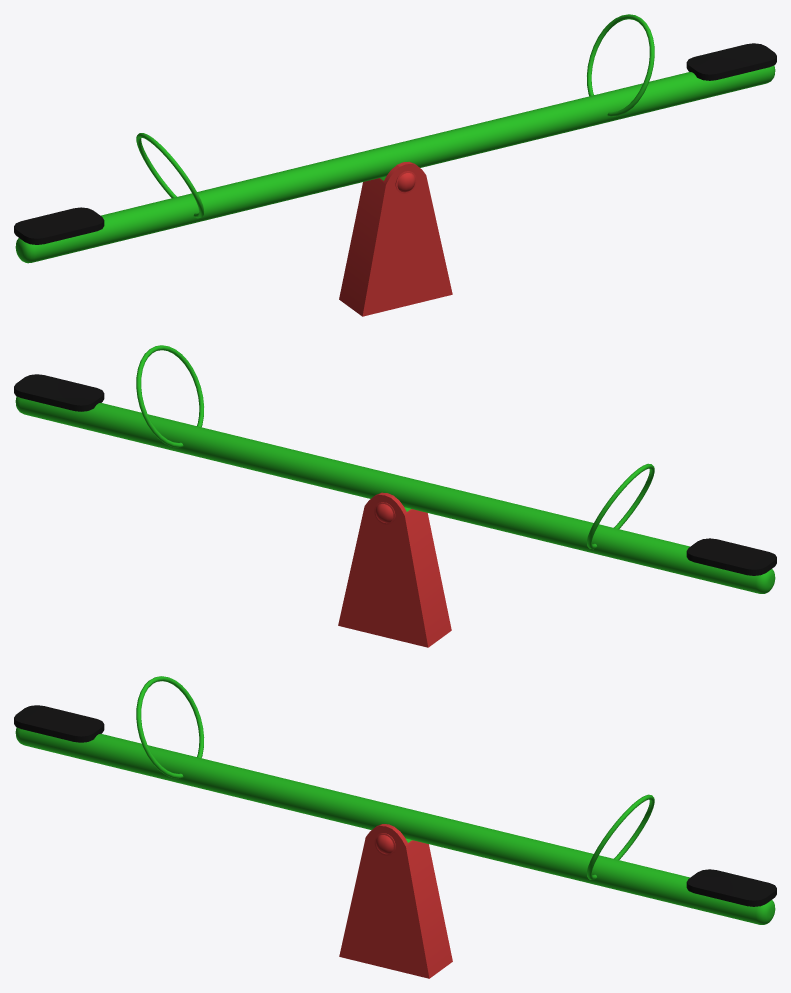
File: seesaw.glb
3 views of the same model, one above another, from view 1: azimuth 30°, elevation 25°; view 2: azimuth 150°, elevation 25°; view 3: azimuth 330°, elevation 25° (orthographic).
Visible parts, largest first — view 1: up, bottom; view 2: up, bottom; view 3: up, bottom.
Boxes of the visible parts, left/top/right/bottom form: up: left=14, top=14, right=776, bottom=263; bottom: left=339, top=161, right=452, bottom=316; up: left=14, top=345, right=776, bottom=593; bottom: left=338, top=492, right=451, bottom=647; up: left=14, top=676, right=776, bottom=924; bottom: left=339, top=824, right=452, bottom=978.
Size of the model in its own units: 3.91 by 1.09 by 0.4735.
Materials: 1 (1 with a texture image).
